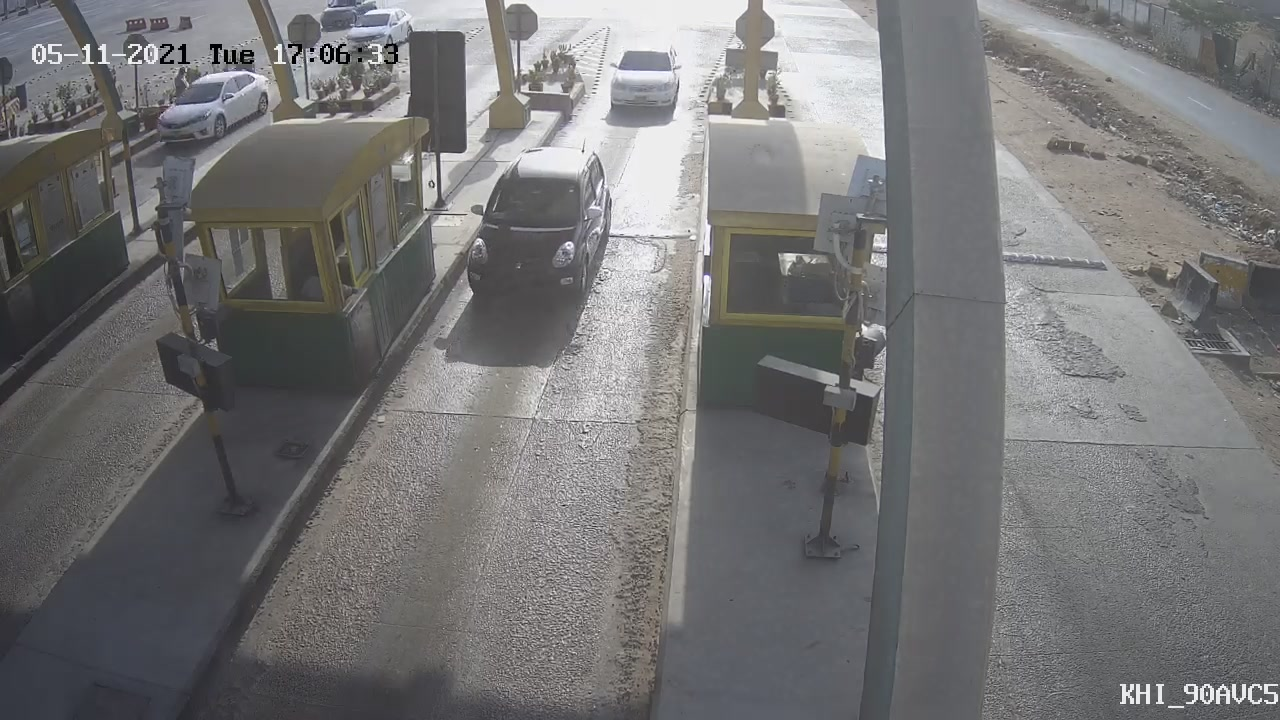F1: (446, 129, 633, 324)
